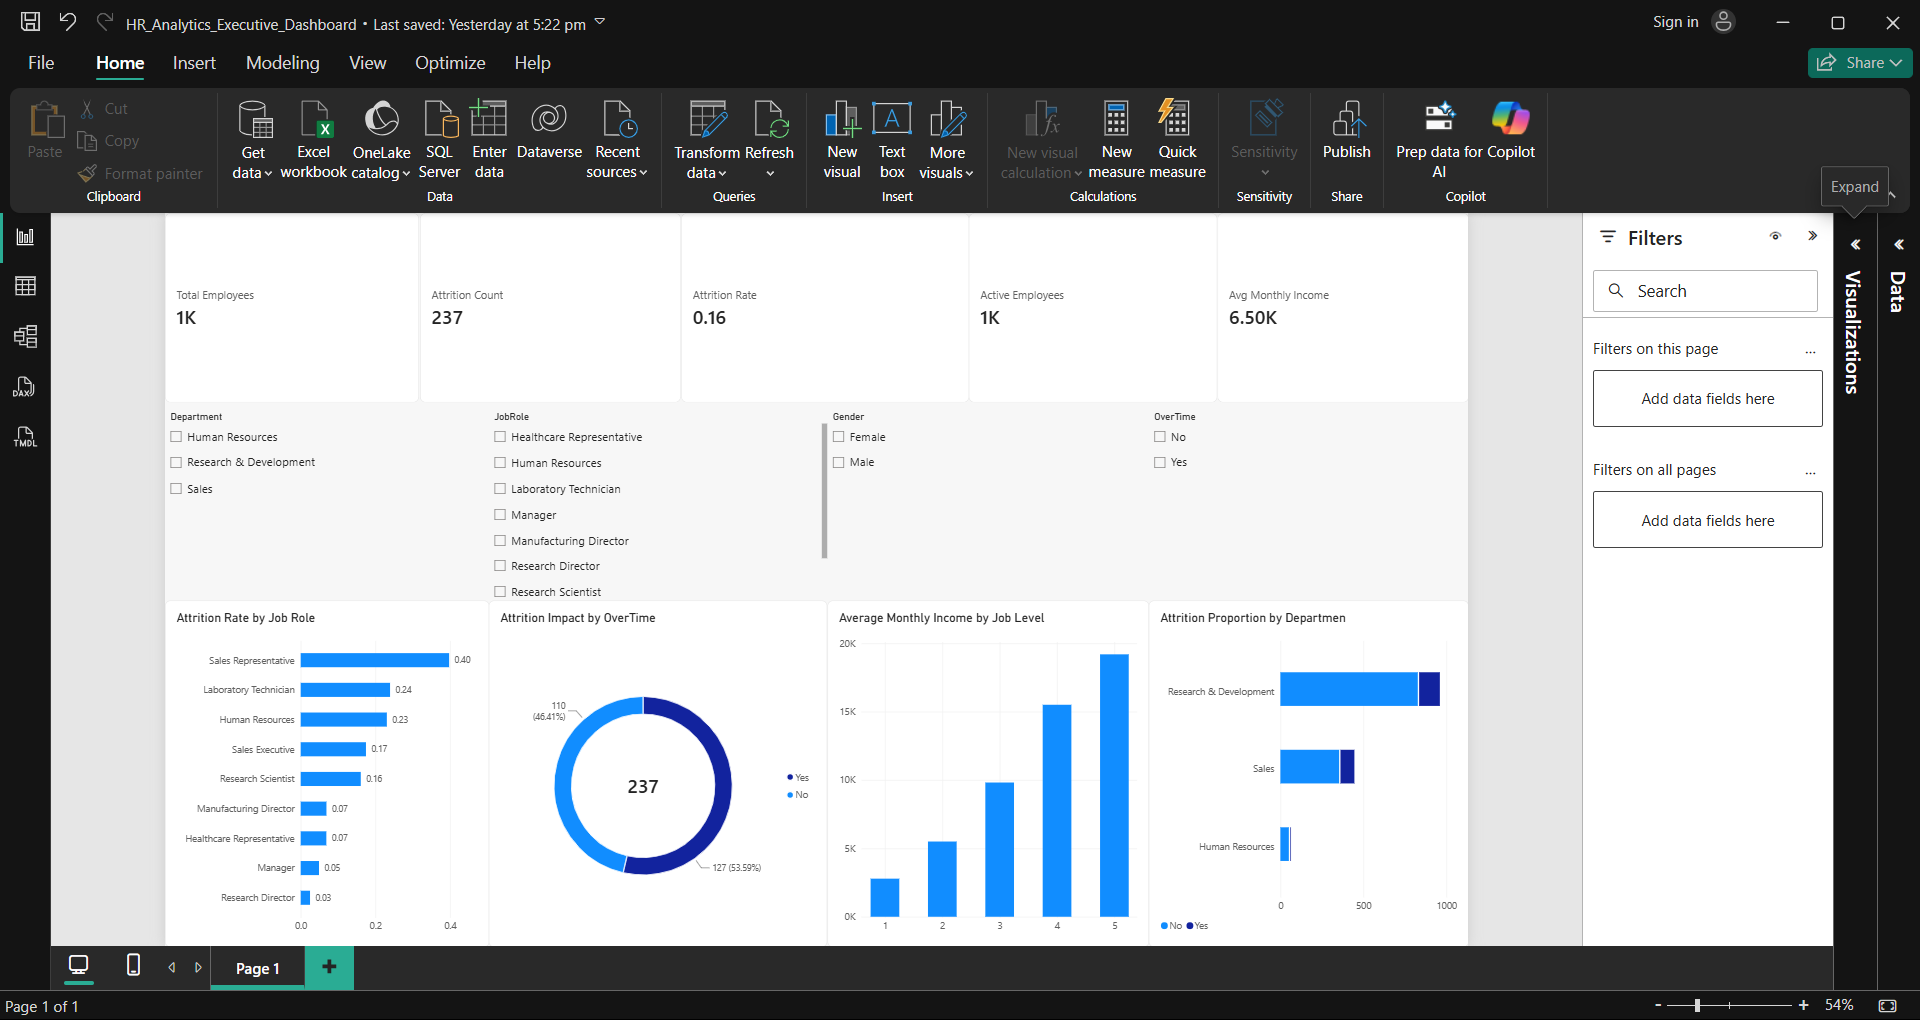

The dashboard page shown, as its layout file describes it:
{"tool":"powerbi","page":{"name":"Page 1","canvas":[1920,1080],"ordinal":0},"visuals":[{"type":"cardVisual","fields":{"Data":["WA_Fn-UseC_-HR-Employee-Attrition.Total Employees"]},"box":[0,0,374.6,279.9],"z":0},{"type":"cardVisual","fields":{"Data":["WA_Fn-UseC_-HR-Employee-Attrition.Attrition Count"]},"box":[374.6,0,384.9,279.9],"z":1000},{"type":"cardVisual","fields":{"Data":["WA_Fn-UseC_-HR-Employee-Attrition.Attrition Rate"]},"box":[759.5,0,424,279.9],"z":2000},{"type":"cardVisual","fields":{"Data":["WA_Fn-UseC_-HR-Employee-Attrition.Active Employees"]},"box":[1183.5,0,366.4,279.9],"z":3000},{"type":"cardVisual","fields":{"Data":["WA_Fn-UseC_-HR-Employee-Attrition.Avg Monthly Income"]},"box":[1549.9,0,370.5,279.9],"z":4000},{"type":"slicer","fields":{"Values":["WA_Fn-UseC_-HR-Employee-Attrition.Department"]},"box":[0,290.2,477.5,279.9],"z":4001},{"type":"slicer","fields":{"Values":["WA_Fn-UseC_-HR-Employee-Attrition.JobRole"]},"box":[477.5,290.2,498.1,279.9],"z":4002},{"type":"slicer","fields":{"Values":["WA_Fn-UseC_-HR-Employee-Attrition.Gender"]},"box":[975.6,290.2,473.4,279.9],"z":4003},{"type":"slicer","fields":{"Values":["WA_Fn-UseC_-HR-Employee-Attrition.OverTime"]},"box":[1449.1,290.2,471.4,279.9],"z":4004},{"type":"clusteredBarChart","title":"Attrition Rate by Job Role","fields":{"Category":["WA_Fn-UseC_-HR-Employee-Attrition.JobRole"],"Y":["WA_Fn-UseC_-HR-Employee-Attrition.Attrition Rate"]},"box":[0,570.2,477.5,510.5],"z":4005},{"type":"donutChart","title":"Attrition Impact by OverTime","fields":{"Category":["WA_Fn-UseC_-HR-Employee-Attrition.OverTime"],"Y":["WA_Fn-UseC_-HR-Employee-Attrition.Attrition Count"]},"box":[477.5,570.2,498.1,510.5],"z":4006},{"type":"clusteredColumnChart","title":"Average Monthly Income by Job Level","fields":{"Category":["WA_Fn-UseC_-HR-Employee-Attrition.JobLevel"],"Y":["WA_Fn-UseC_-HR-Employee-Attrition.Avg Monthly Income"]},"box":[975.6,570.2,473.4,510.5],"z":4007},{"type":"barChart","title":"Attrition Proportion by Departmen","fields":{"Y":["WA_Fn-UseC_-HR-Employee-Attrition.Total Employees"],"Category":["WA_Fn-UseC_-HR-Employee-Attrition.Department"],"Series":["WA_Fn-UseC_-HR-Employee-Attrition.Attrition"]},"box":[1449.1,570.2,471.4,510.5],"z":4008}]}

Visuals, with their boxes in screenshot pixels (x1, y1, x2, y2):
cardVisual - WA_Fn-UseC_-HR-Employee-Attrition.Total Employees: region(40, 0, 389, 201)
cardVisual - WA_Fn-UseC_-HR-Employee-Attrition.Attrition Count: region(389, 0, 747, 201)
cardVisual - WA_Fn-UseC_-HR-Employee-Attrition.Attrition Rate: region(747, 0, 1142, 201)
cardVisual - WA_Fn-UseC_-HR-Employee-Attrition.Active Employees: region(1142, 0, 1484, 201)
cardVisual - WA_Fn-UseC_-HR-Employee-Attrition.Avg Monthly Income: region(1484, 0, 1829, 201)
slicer - WA_Fn-UseC_-HR-Employee-Attrition.Department: region(40, 210, 485, 471)
slicer - WA_Fn-UseC_-HR-Employee-Attrition.JobRole: region(485, 210, 949, 471)
slicer - WA_Fn-UseC_-HR-Employee-Attrition.Gender: region(949, 210, 1390, 471)
slicer - WA_Fn-UseC_-HR-Employee-Attrition.OverTime: region(1390, 210, 1829, 471)
"Attrition Rate by Job Role" clusteredBarChart: region(40, 471, 485, 947)
"Attrition Impact by OverTime" donutChart: region(485, 471, 949, 947)
"Average Monthly Income by Job Level" clusteredColumnChart: region(949, 471, 1390, 947)
"Attrition Proportion by Departmen" barChart: region(1390, 471, 1829, 947)
